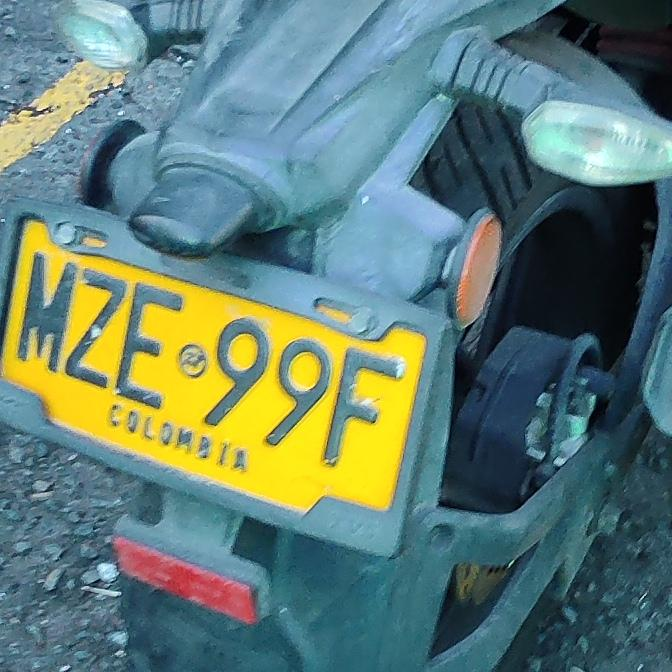plates: (0, 203, 439, 556)
